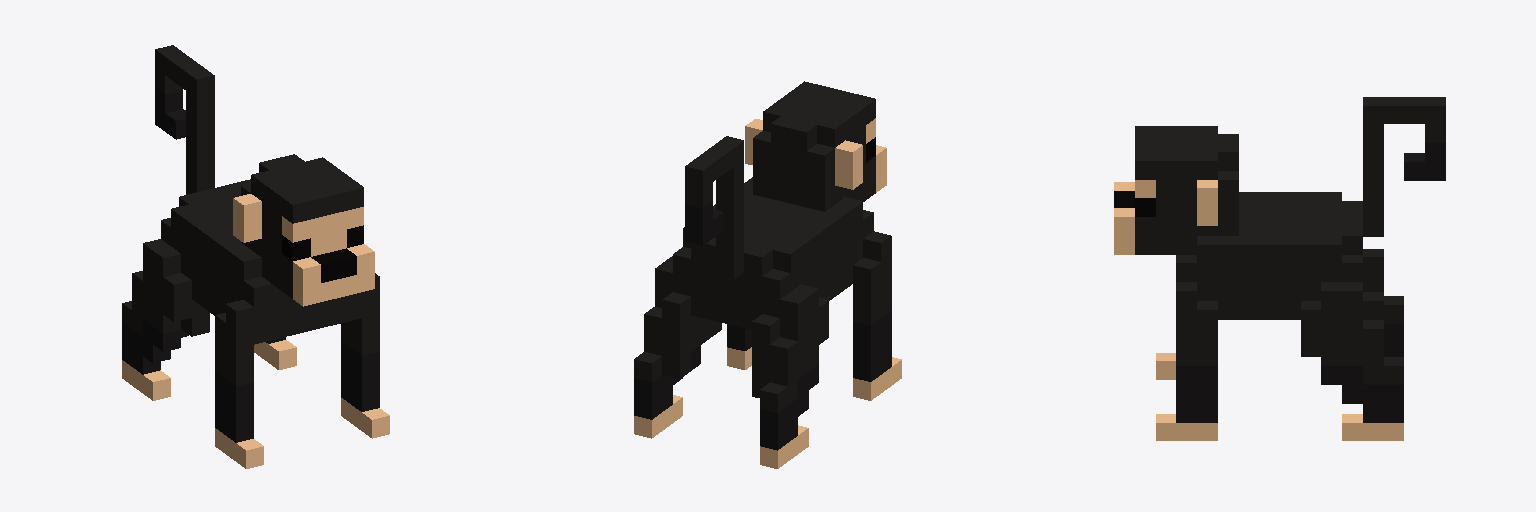
3 views of the same model, side by side, from view 1: azimuth 30°, elevation 25°; view 2: azimuth 150°, elevation 25°; view 3: azimuth 270°, elevation 25° (orthographic).
Parts seen in each view (by area): view 1: object 1; view 2: object 1; view 3: object 1.
Boxes of the visible parts, <box> form: object 1: <box>122,45,389,468</box>; object 1: <box>634,81,901,468</box>; object 1: <box>1114,97,1445,440</box>.
Size of the model in its own units: 0.8 by 1.6 by 1.6.
1 materials, 1 textured.